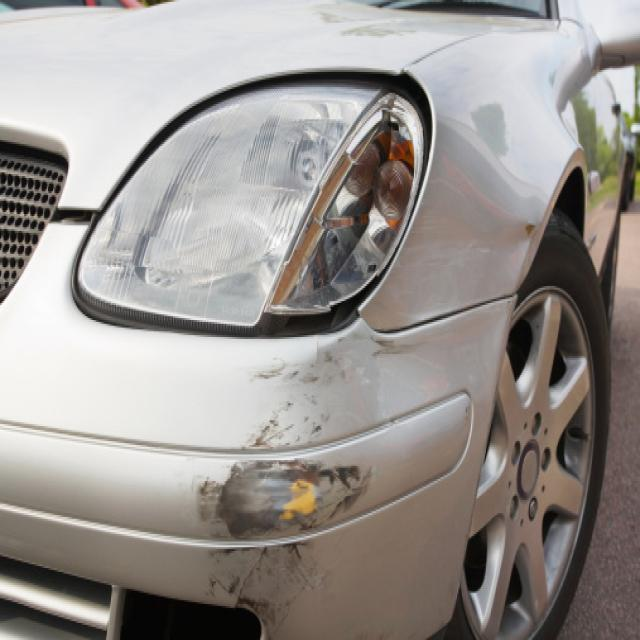dent: (503, 212, 541, 271)
scratch: (192, 331, 418, 640), (522, 219, 536, 239)
